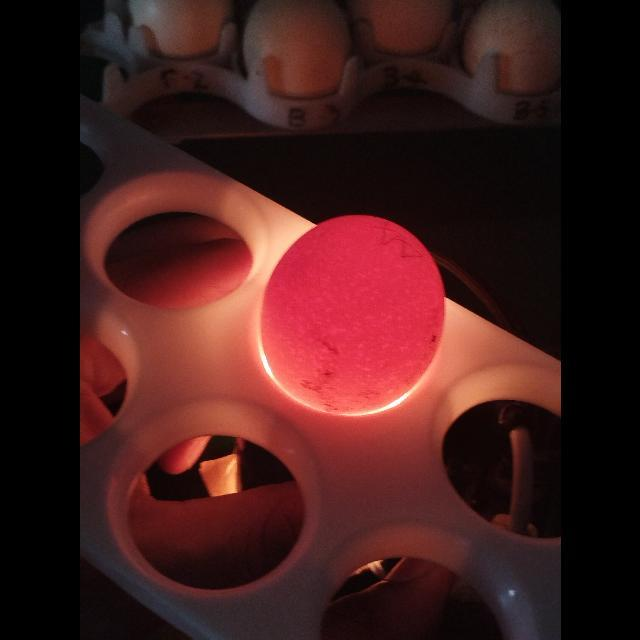Infertile: (256, 200, 434, 400)
